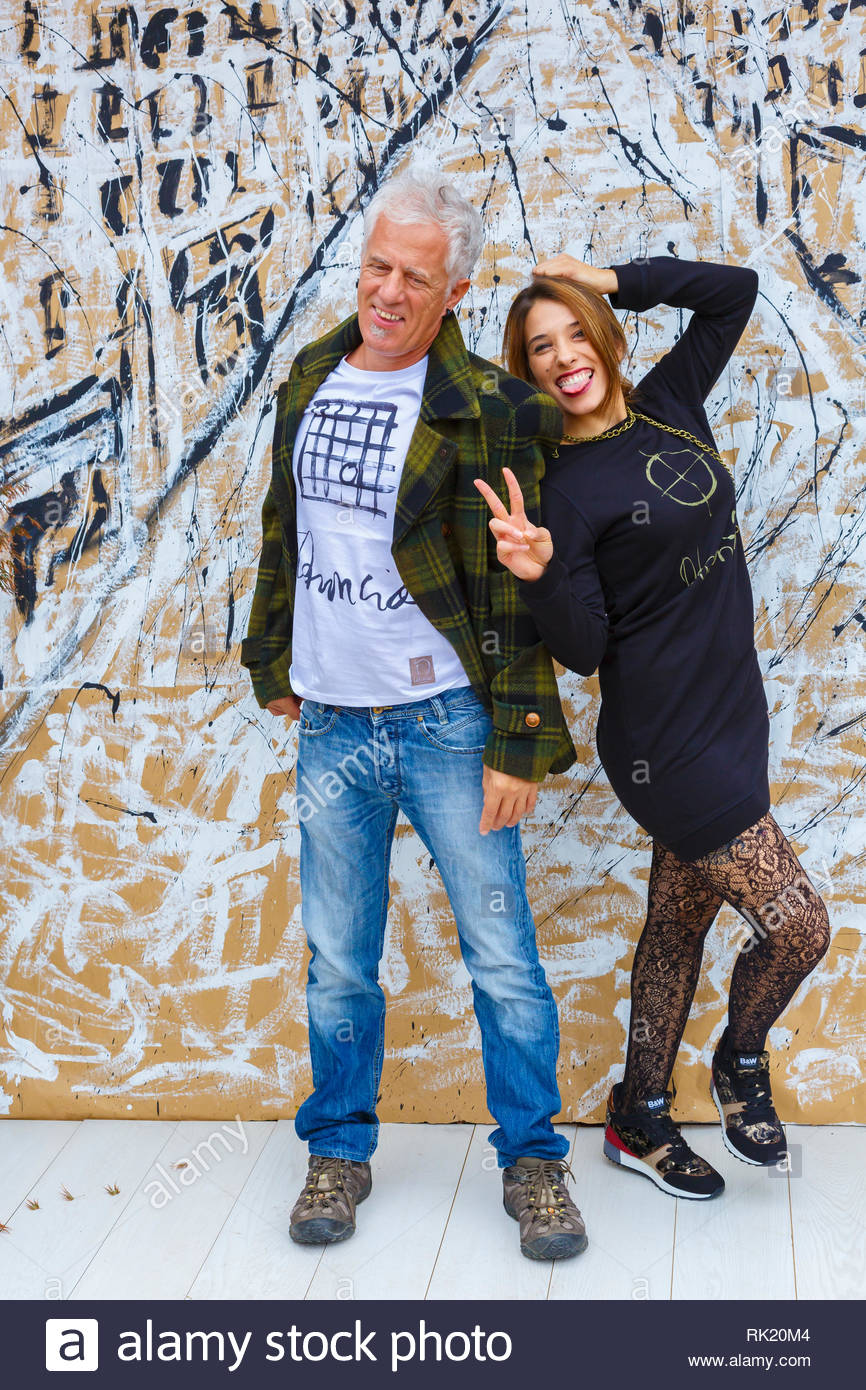person: (253, 183, 517, 528), (486, 277, 731, 607)
